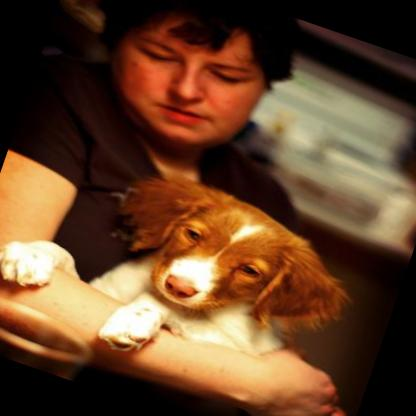Brittany_spaniel: (0, 127, 365, 414)
